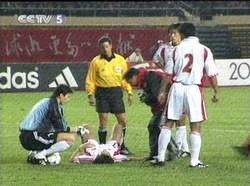falling: (70, 120, 131, 164)
